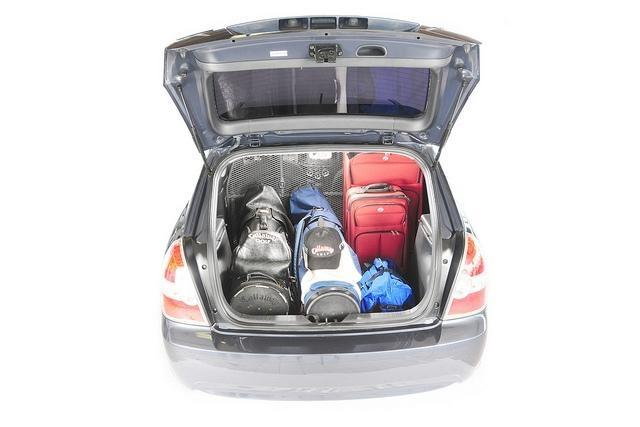car: (162, 32, 491, 396)
